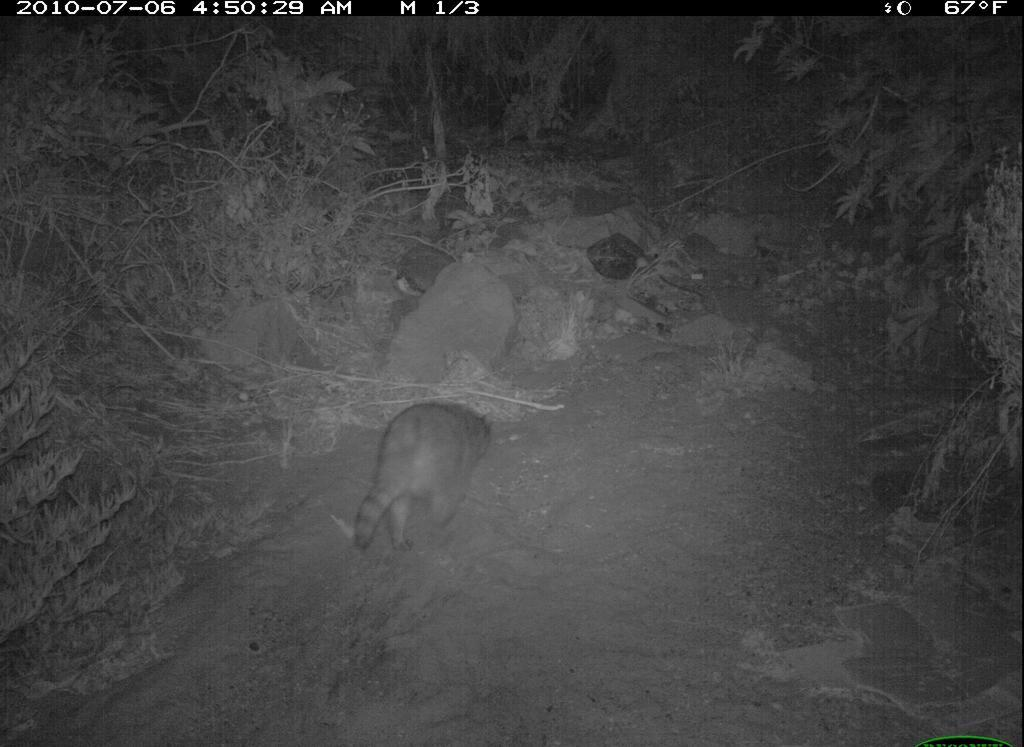raccoon: (326, 364, 511, 570)
